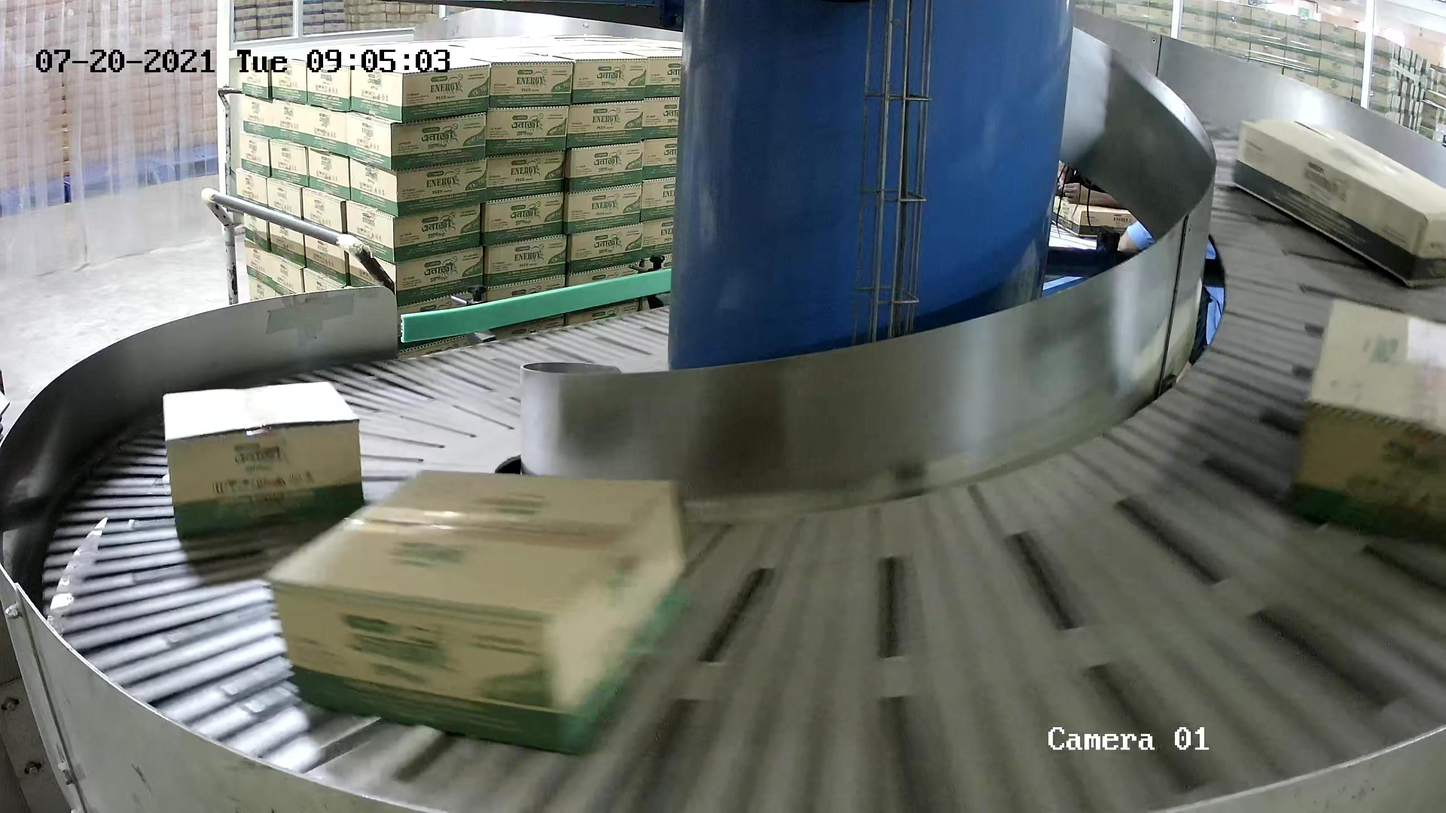Box: (262, 462, 695, 759), (1294, 295, 1446, 548), (1230, 115, 1446, 290), (160, 378, 367, 539)
